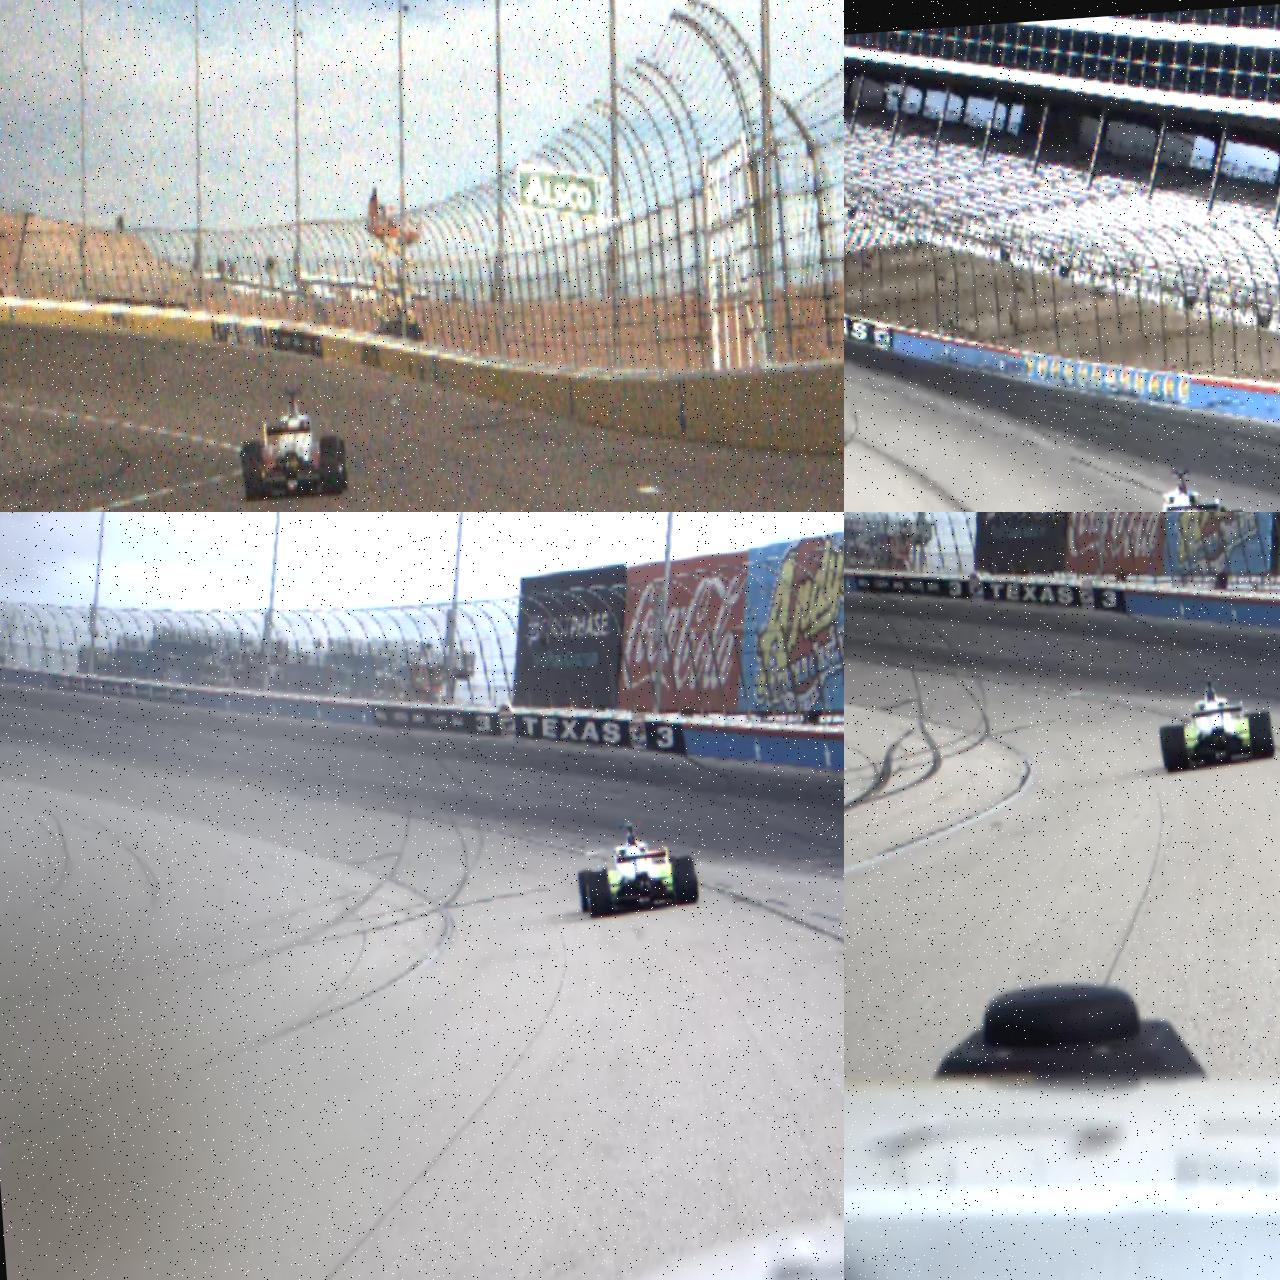AV: (238, 384, 350, 504), (574, 817, 700, 920), (1156, 675, 1276, 774), (1116, 465, 1250, 512)
Wheel: (242, 440, 266, 502), (672, 855, 700, 906), (1248, 711, 1276, 761), (1160, 725, 1188, 773), (320, 436, 342, 496), (586, 870, 611, 919), (332, 439, 348, 491), (578, 869, 596, 913)
